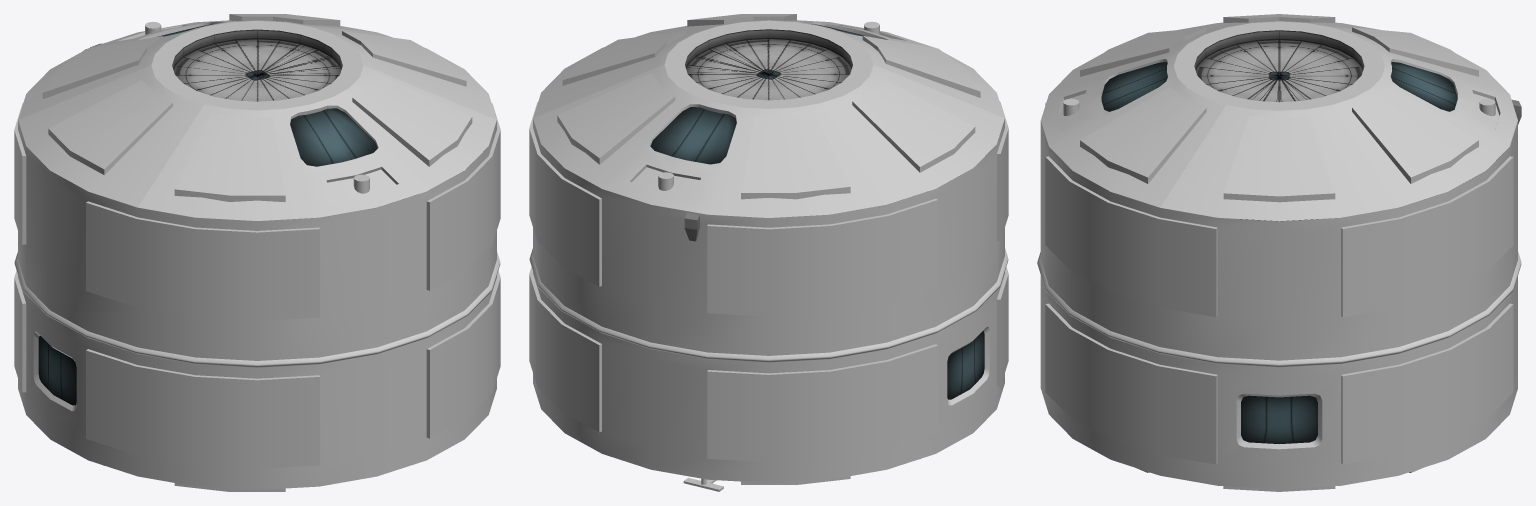
Rendered from Apollo_Block4_MissionModule.fbx.
3 renders of one model, left to right at view 1: azimuth 30°, elevation 25°; view 2: azimuth 150°, elevation 25°; view 3: azimuth 270°, elevation 25°, orthographic.
Visible parts, largest first — view 1: Hull, Windows; view 2: Hull, Windows; view 3: Hull, Windows.
Part boxes in pixels (x1=…): Hull: x1=14, y1=14, x2=500, y2=491; Windows: x1=38, y1=24, x2=377, y2=405; Hull: x1=529, y1=14, x2=1008, y2=491; Windows: x1=650, y1=24, x2=984, y2=399; Hull: x1=1037, y1=14, x2=1521, y2=491; Windows: x1=1101, y1=30, x2=1457, y2=443.
Size of the model in its own units: 2.54 by 2.18 by 2.54.
